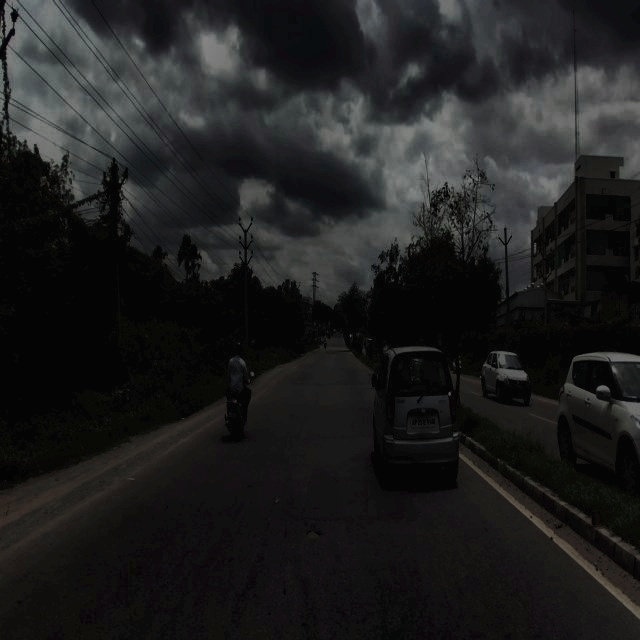Pothole: (294, 516, 330, 552)
